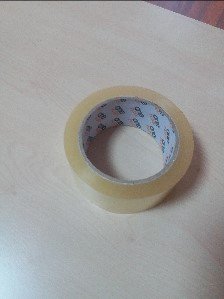band: (64, 89, 195, 218)
